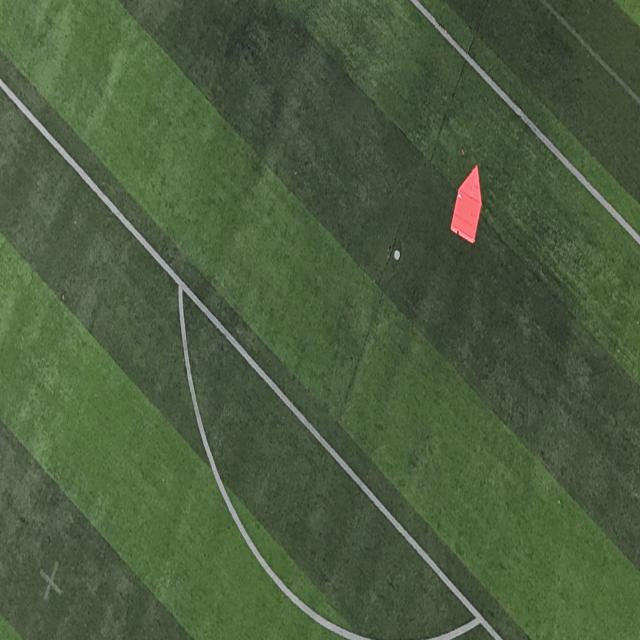board: (450, 165, 483, 245)
